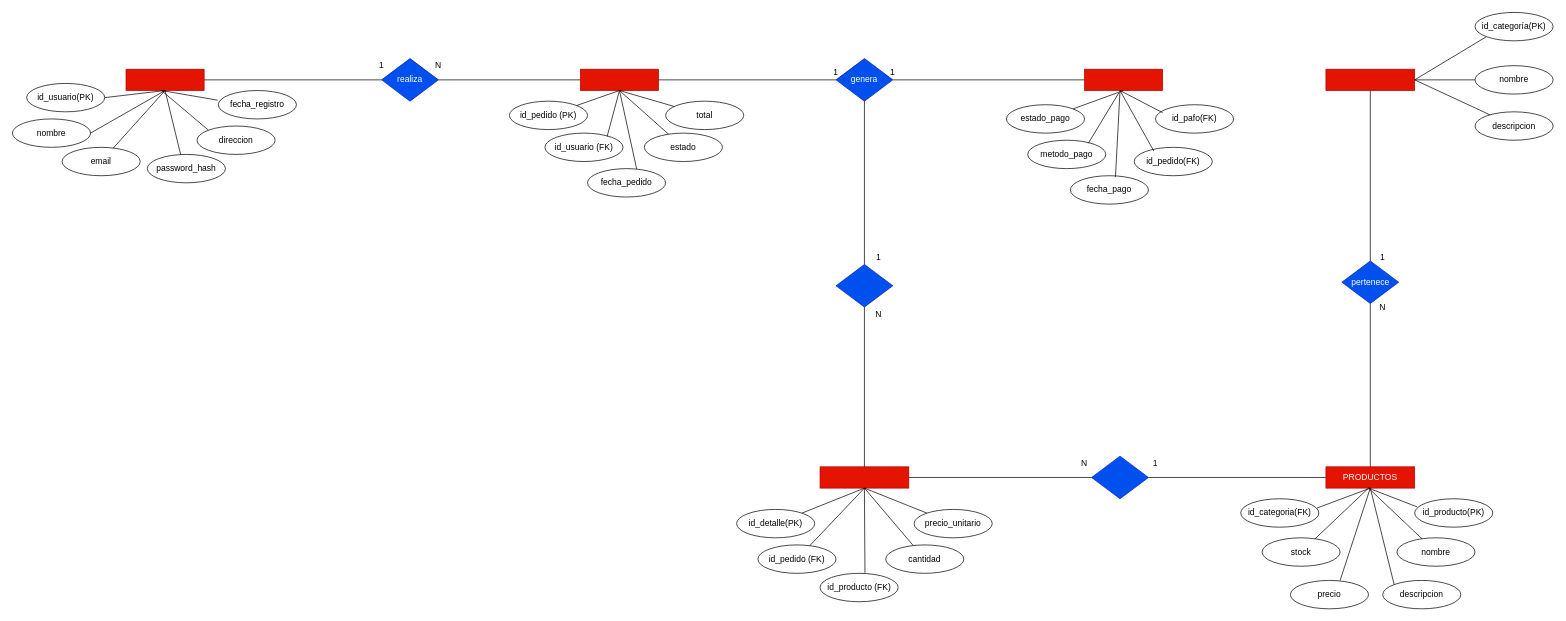
This 1566x621 diagram has some shape labels left out. Here are the shapes that lost their labels. From the top down, the centre of each, then its label:
At point (164, 80): "USUARIOS".
At point (619, 80): "PEDIDOS".
At point (1123, 80): "PAGOS".
At point (1370, 80): "CATEGORIAS".
At point (864, 285): "contiene".
At point (864, 477): "DETALLE_PEDIDOS".
At point (1119, 477): "incluye".
